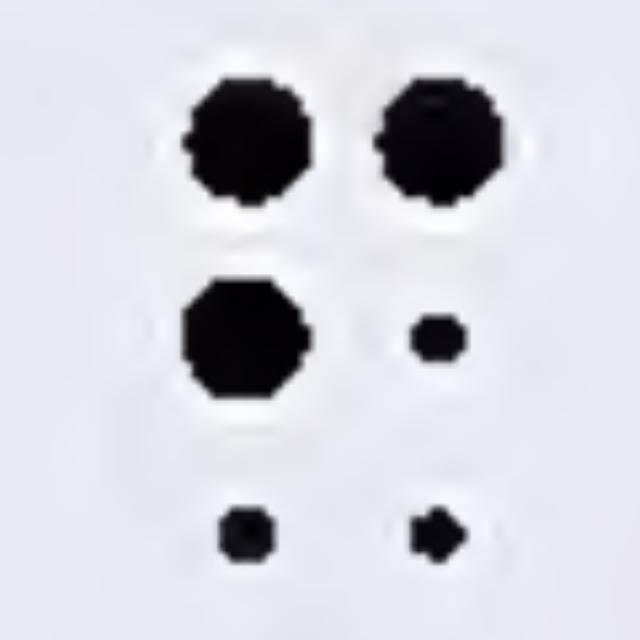letter_f: (186, 75, 502, 580)
